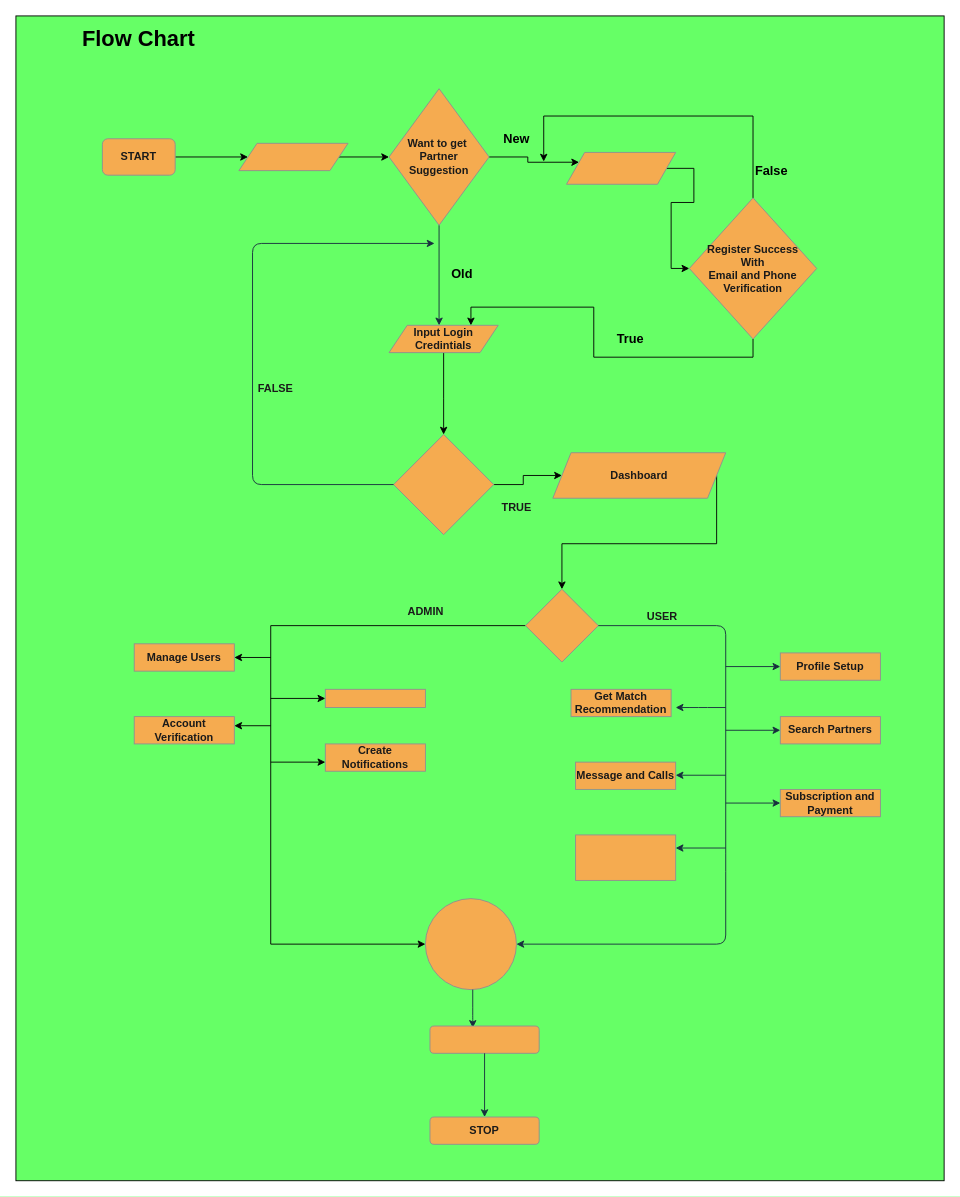
Image size: 960x1197. Some labels were removed from this diagram. The shapes that lost their labels are listed below. From the top down, each one's centre as x and y in pixels, then its label:
At [293,156]: "Home Page".
At [621,168]: "Register".
At [443,484]: "Login".
At [561,625]: "if user type".
At [374,698]: "View Analytics".
At [625,857]: "Like Profile to show interest".
At [484,1039]: "LOG OUT".
